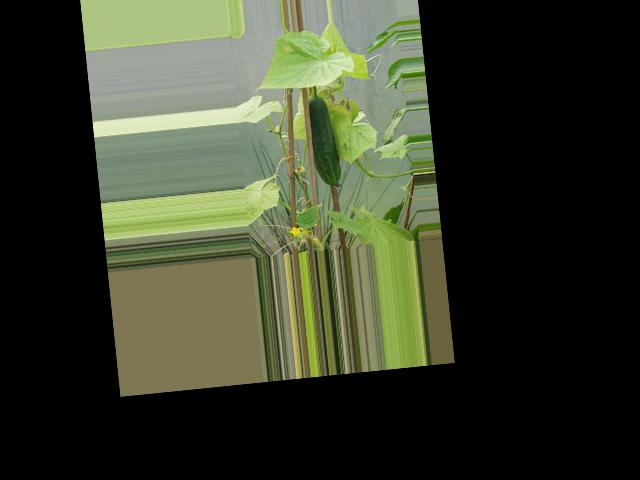cucumber: (307, 94, 342, 188)
